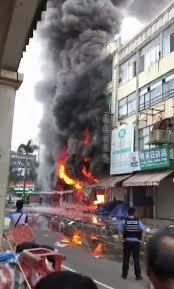fire: (53, 155, 107, 252)
